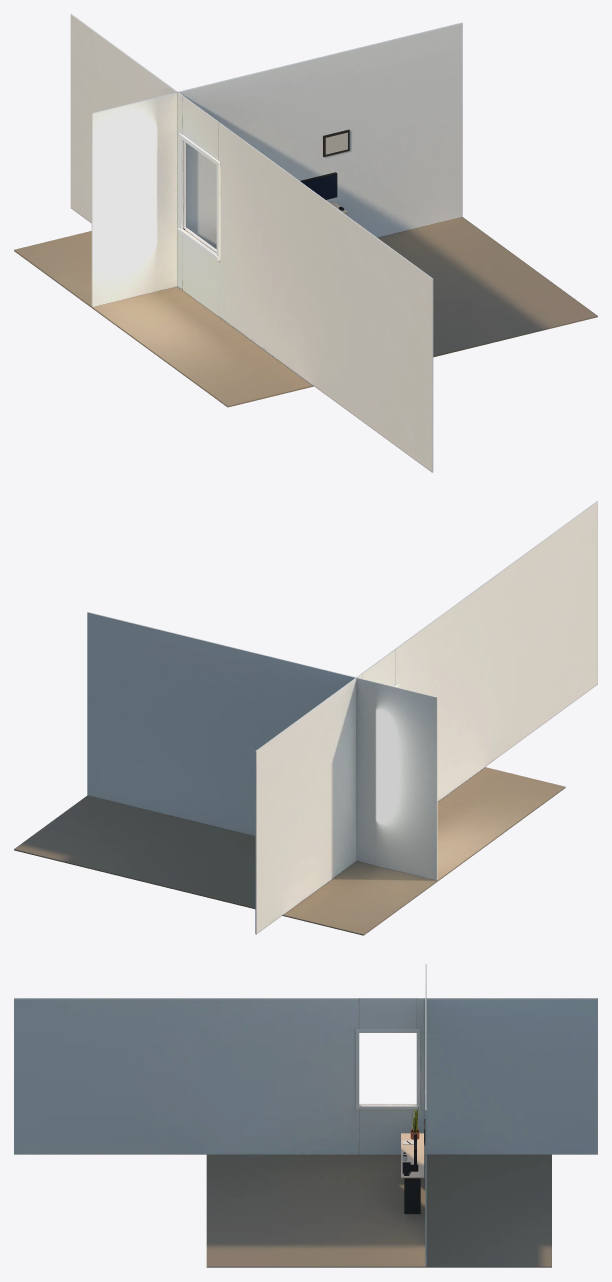
File: room.glb
3 views of the same model, one above another, from view 1: azimuth 30°, elevation 25°; view 2: azimuth 150°, elevation 25°; view 3: azimuth 270°, elevation 25° (orthographic). The views are drawn at different scales.
Visible parts, largest first — view 1: wall_back, wall_left_a, floor, wall_left_b, wall_left_c, wall_left_d; view 2: wall_back, wall_left_a, floor, wall_left_b, wall_left_d; view 3: wall_left_a, floor, wall_left_b, wall_left_c, wall_left_d, desk_top, desk_leg_r, wall_back, win_sill.
Boxes of the visible parts, box(x1,y1,x2,y2) form: wall_back: box(91, 22, 462, 306); wall_left_a: box(218, 122, 433, 472); floor: box(14, 217, 597, 407); wall_left_b: box(70, 14, 183, 289); wall_left_c: box(183, 230, 218, 315); wall_left_d: box(183, 96, 219, 160); wall_back: box(87, 612, 437, 880); wall_left_a: box(395, 501, 597, 801); floor: box(14, 767, 565, 935); wall_left_b: box(255, 673, 362, 934); wall_left_d: box(361, 649, 395, 686); wall_left_a: box(14, 998, 359, 1154); floor: box(206, 1154, 551, 1267); wall_left_b: box(416, 998, 597, 1154); wall_left_c: box(359, 1104, 416, 1154); wall_left_d: box(359, 998, 416, 1028); desk_top: box(401, 1133, 424, 1178); desk_leg_r: box(404, 1178, 420, 1213); wall_back: box(425, 964, 426, 1266); win_sill: box(355, 1103, 420, 1109).
Size of the model in its own units: 6 by 3.02 by 10.15.
Materials: 39 (39 with a texture image).
